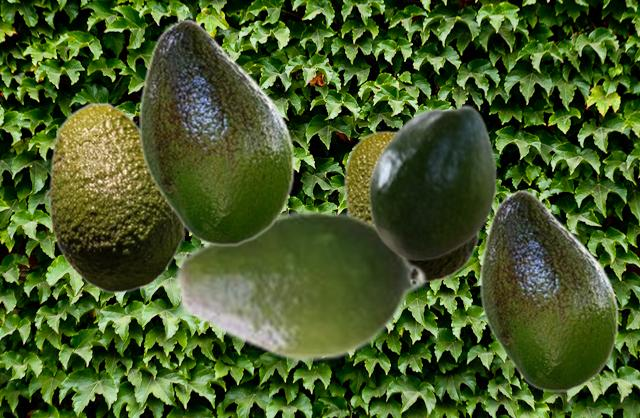avocado: (173, 206, 427, 363), (139, 18, 294, 245), (480, 189, 618, 391), (43, 102, 185, 292), (343, 130, 480, 282), (367, 104, 496, 260)
